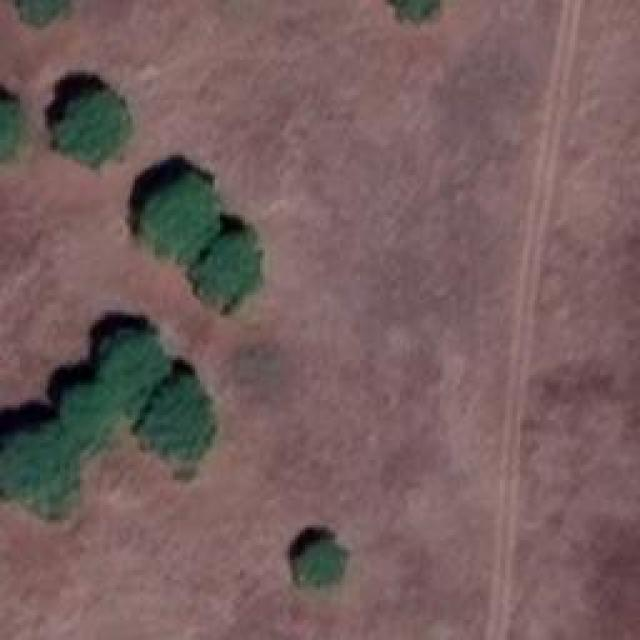Tree: (0, 425, 78, 515), (140, 377, 210, 465), (145, 175, 218, 255), (103, 332, 168, 410), (58, 93, 128, 158), (195, 238, 258, 301), (65, 385, 115, 445), (295, 540, 348, 588), (18, 0, 73, 20), (0, 103, 20, 158), (385, 0, 448, 15)
